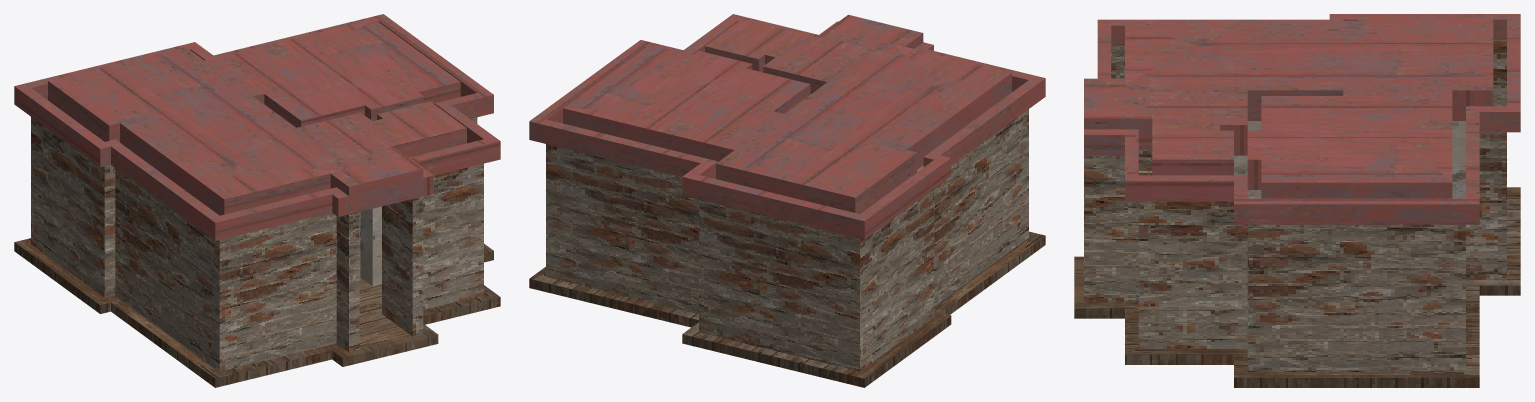
Rendered from strange_house.glb.
The picture shows the model from 3 angles, left to right: view 1: azimuth 30°, elevation 25°; view 2: azimuth 150°, elevation 25°; view 3: azimuth 270°, elevation 25°; orthographic projection. The views are drawn at different scales.
Visible parts, largest first — view 1: strange_house; view 2: strange_house; view 3: strange_house.
Part boxes in pixels (x1=…): strange_house: x1=14, y1=14, x2=500, y2=387; strange_house: x1=529, y1=14, x2=1045, y2=387; strange_house: x1=1074, y1=14, x2=1520, y2=387.
Bounding box in the file's own units: 8 × 3.8 × 7.93.
1 material, 1 textured.
